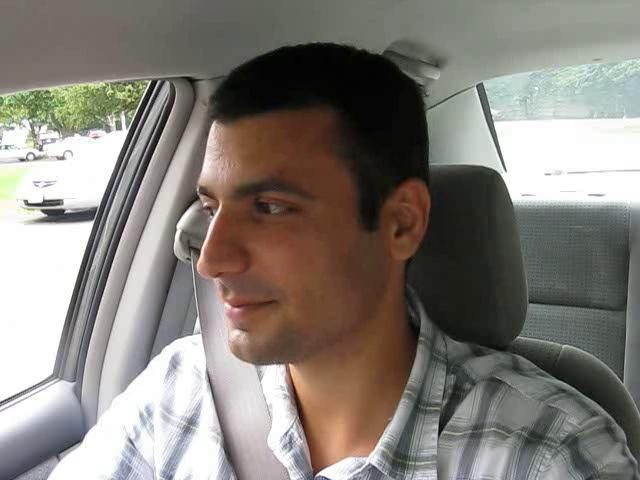no_yawn: (202, 279, 286, 339)
open_eyeL: (234, 184, 317, 231)
open_eyeR: (187, 196, 226, 229)
